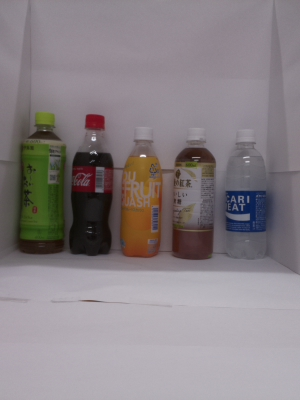おーいお茶: (16, 106, 67, 259)
グレープフルーツスカッシュ: (117, 123, 167, 263)
コーラ: (67, 109, 115, 259)
ポカリスエット: (222, 125, 268, 266)
午後の紅茶: (168, 123, 219, 265)
